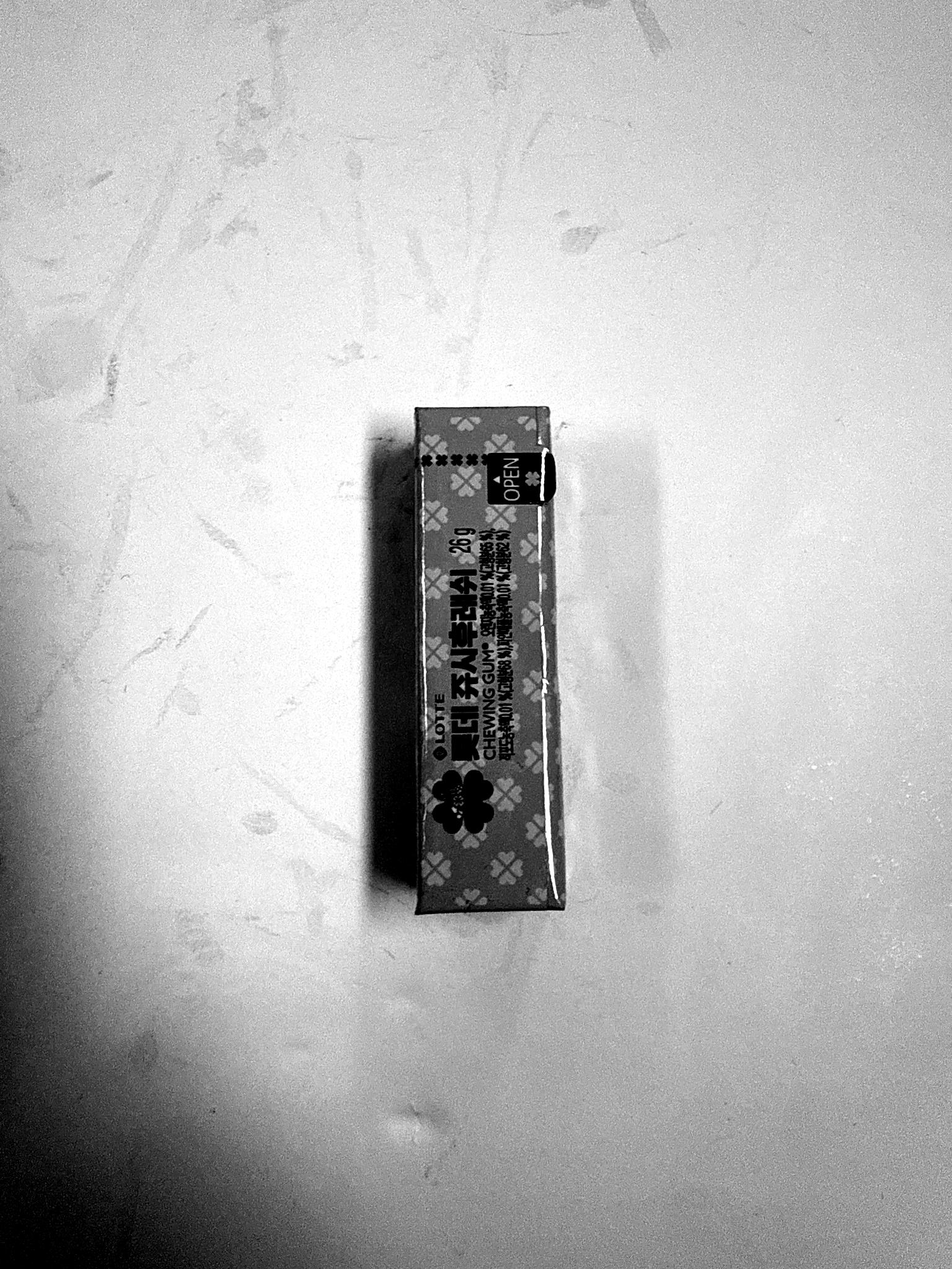gum_yellow: (420, 404, 562, 910)
